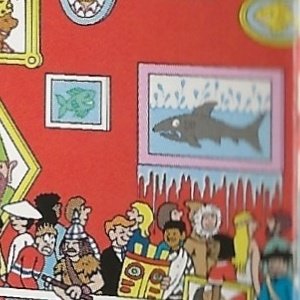Wizard Whitebeard: (262, 129, 290, 171)
